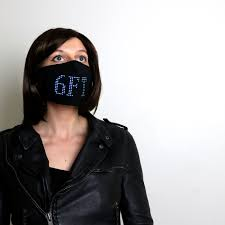mask: (45, 61, 92, 105)
